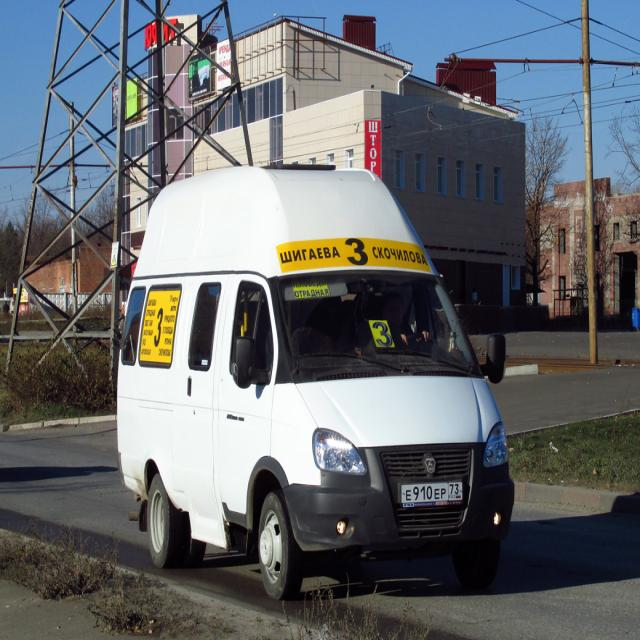number-of-bus: (344, 237, 370, 268), (371, 319, 395, 352), (154, 308, 165, 349)
